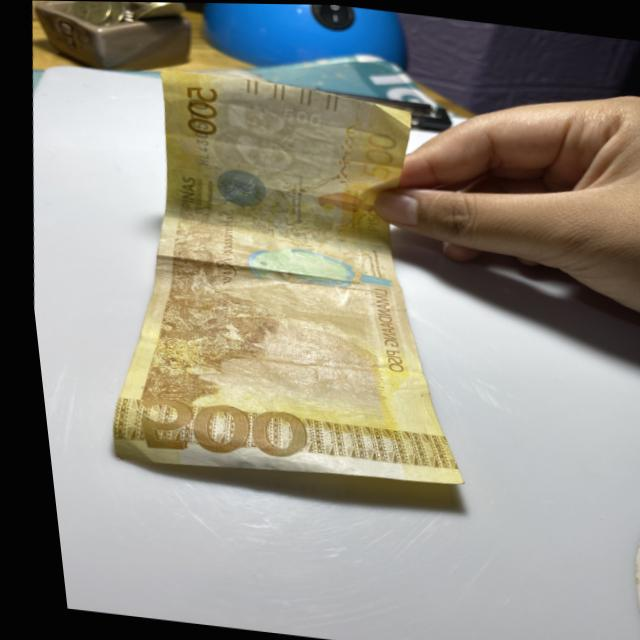500_big_parrot: (239, 232, 387, 298)
500_parrot_watermark: (303, 184, 377, 224)
value_watermark: (285, 109, 324, 130)
watermark: (199, 93, 352, 189)
